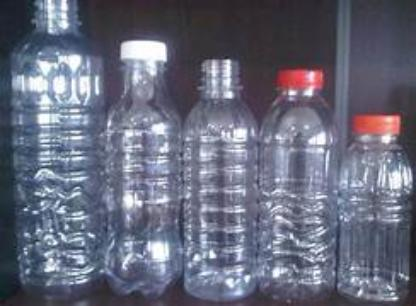Plastic Bottle: (10, 2, 121, 302), (100, 36, 184, 304), (182, 46, 262, 302), (259, 69, 343, 303), (336, 113, 412, 305)
